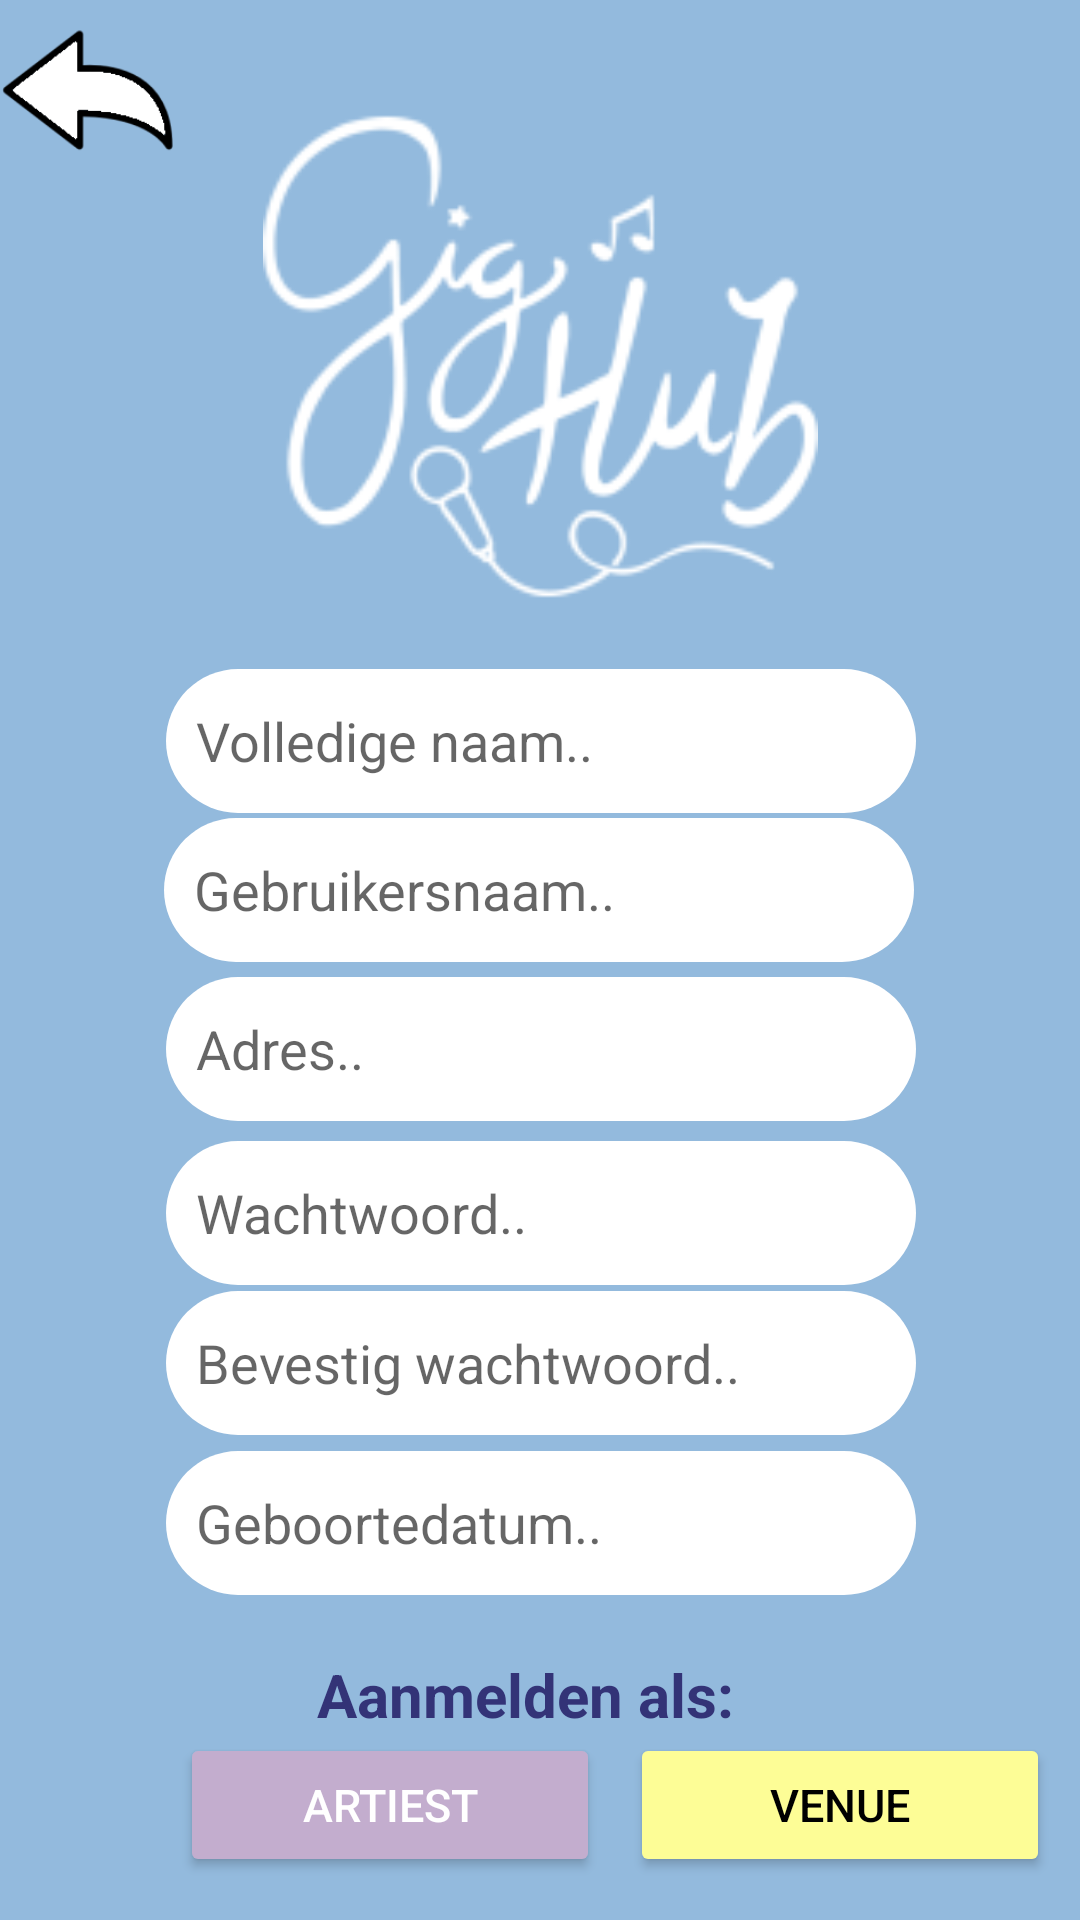

Named icons in this screenshot (1080x1920) and their centers, (x=x, y=y):
back button: (x=88, y=90)
